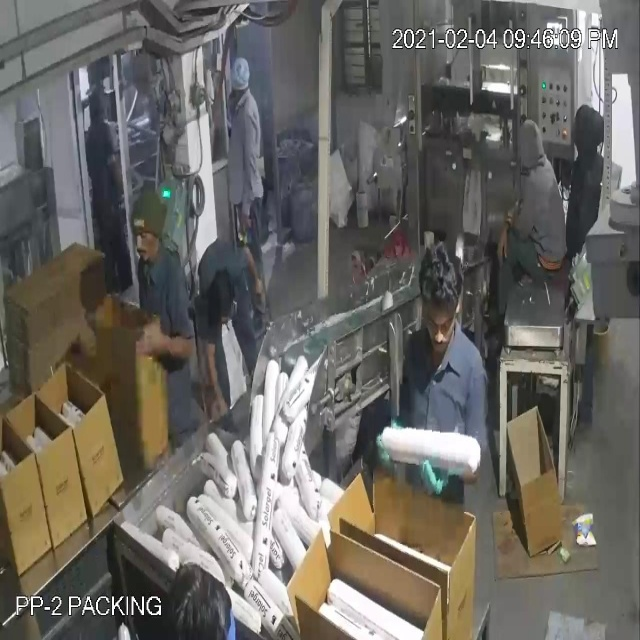Guantes: (421, 434, 474, 507), (373, 418, 408, 479)
Sin_guantes: (127, 300, 200, 376), (238, 116, 264, 228), (491, 203, 522, 276), (201, 326, 226, 409), (237, 228, 264, 301)
